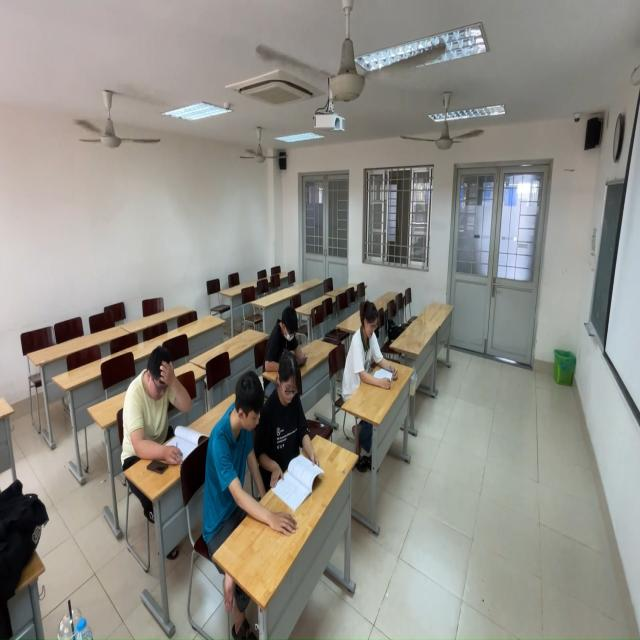read: (203, 373, 273, 542), (122, 339, 204, 470), (264, 349, 322, 504), (345, 301, 393, 407), (262, 302, 313, 371)
